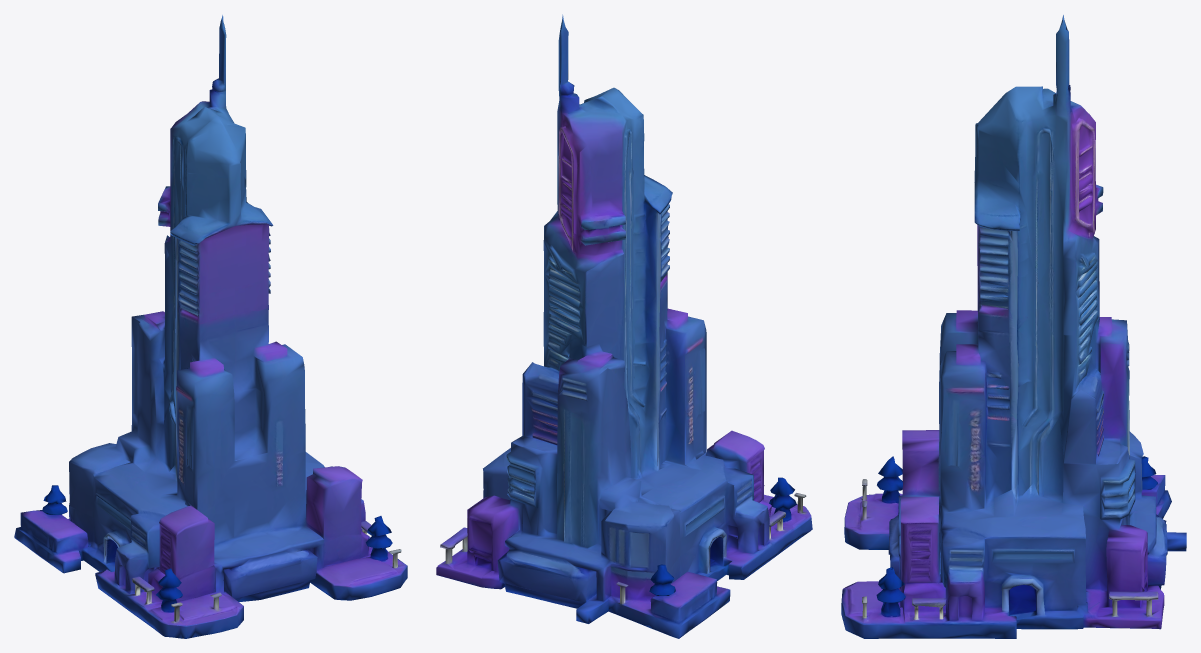
The model's file is neon-tower.glb.
The picture shows the model from 3 angles, left to right: view 1: azimuth 30°, elevation 25°; view 2: azimuth 150°, elevation 25°; view 3: azimuth 270°, elevation 25°; orthographic projection. The views are drawn at different scales.
Visible parts, largest first — view 1: neon-tower-0; view 2: neon-tower-0; view 3: neon-tower-0.
Boxes of the visible parts, x1,y1,x2,y2 form: neon-tower-0: (14,15,407,638); neon-tower-0: (436,14,812,638); neon-tower-0: (841,15,1186,638).
Size of the model in its own units: 0.5111 by 1 by 0.5449.
Materials: 1 (1 with a texture image).
